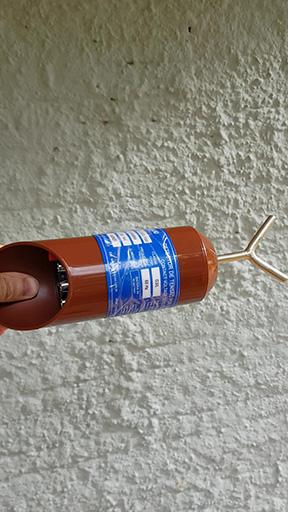Detector_Tensao_Contato: (1, 210, 285, 332)
